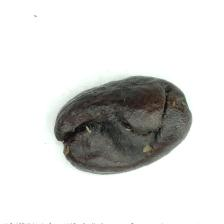NG: (57, 89, 175, 171)
